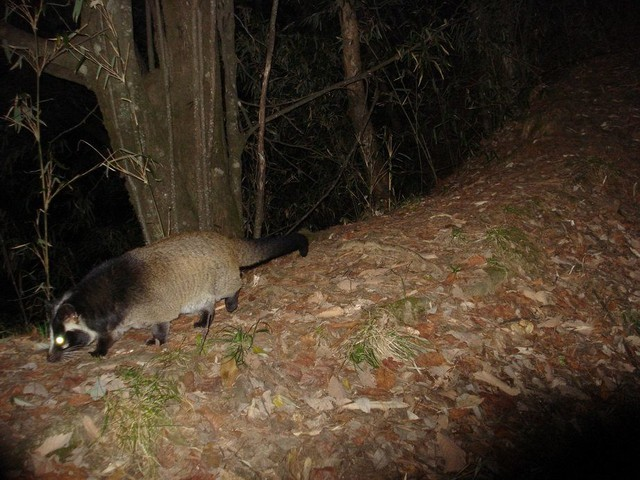civet: (38, 227, 320, 368)
